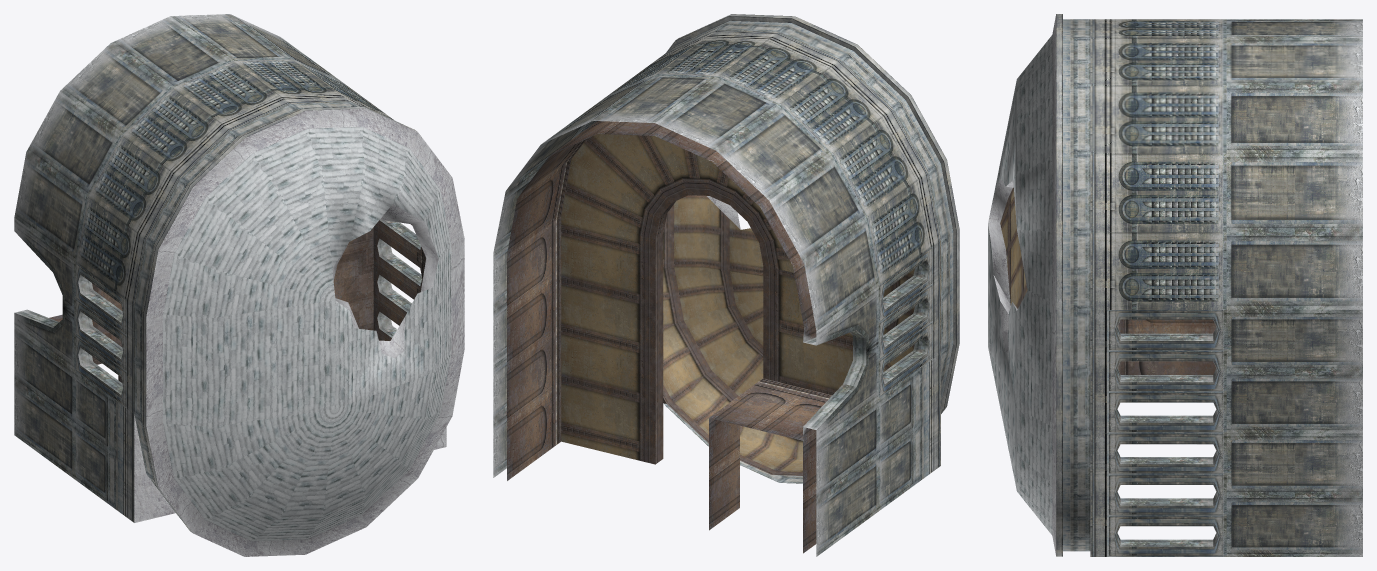
Rendered from rv_mod_col_citadel.obj.
The picture shows the model from 3 angles, left to right: view 1: azimuth 30°, elevation 25°; view 2: azimuth 150°, elevation 25°; view 3: azimuth 270°, elevation 25°; orthographic projection. The views are drawn at different scales.
Visible parts, largest first — view 1: rv_mod_col_citadel; view 2: rv_mod_col_citadel; view 3: rv_mod_col_citadel.
Boxes of the visible parts, bbox=[...] form: rv_mod_col_citadel: bbox=[14, 14, 464, 556]; rv_mod_col_citadel: bbox=[493, 14, 959, 556]; rv_mod_col_citadel: bbox=[988, 14, 1362, 556].
Bounding box in the file's own units: 24.47 × 32.63 × 22.01.
Materials: 10 (10 with a texture image).
